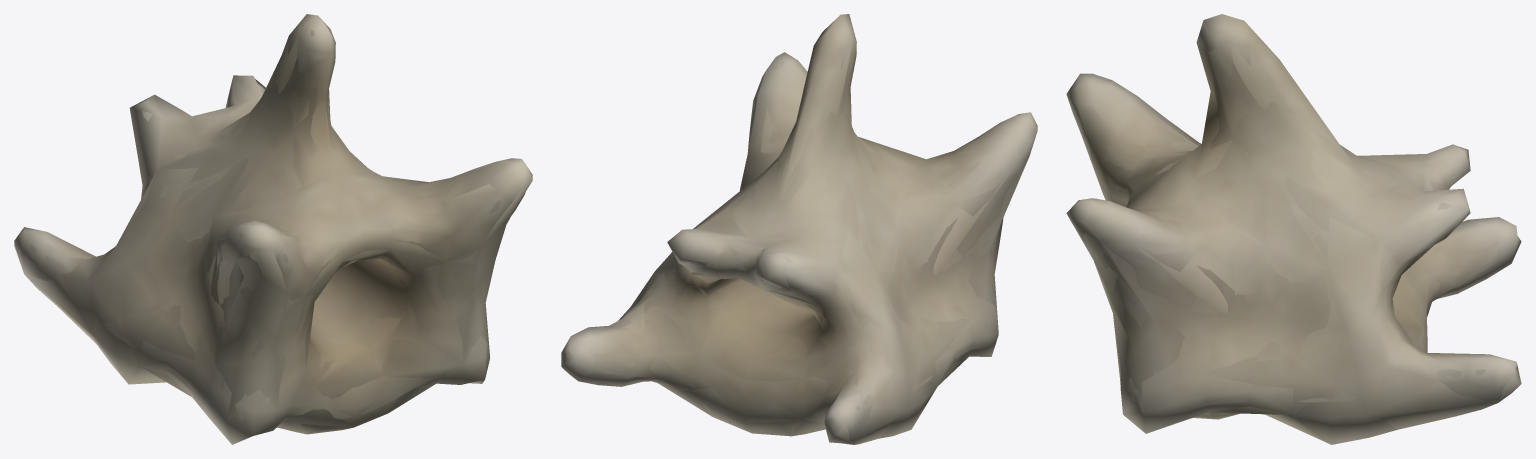
The model's file is vertebrae thoracicae 12.fbx.
3 views of the same model, side by side, from view 1: azimuth 30°, elevation 25°; view 2: azimuth 150°, elevation 25°; view 3: azimuth 270°, elevation 25° (orthographic). The views are drawn at different scales.
Visible parts, largest first — view 1: vertebrae thoracicae 12 low, vertebrae thoracicae 12, vertebrae thoracicae 12 high; view 2: vertebrae thoracicae 12, vertebrae thoracicae 12 low, vertebrae thoracicae 12 high; view 3: vertebrae thoracicae 12, vertebrae thoracicae 12 low, vertebrae thoracicae 12 high.
Boxes of the visible parts, <box> form: vertebrae thoracicae 12 low: <box>14,15,531,444</box>; vertebrae thoracicae 12: <box>14,14,532,444</box>; vertebrae thoracicae 12 high: <box>30,25,511,429</box>; vertebrae thoracicae 12: <box>561,14,1037,444</box>; vertebrae thoracicae 12 low: <box>563,15,1036,443</box>; vertebrae thoracicae 12 high: <box>566,26,1030,443</box>; vertebrae thoracicae 12: <box>1066,14,1521,444</box>; vertebrae thoracicae 12 low: <box>1067,17,1520,444</box>; vertebrae thoracicae 12 high: <box>1078,29,1516,416</box>.
Size of the model in its own units: 1.09 by 1.34 by 1.41.
1 material, 1 textured.
